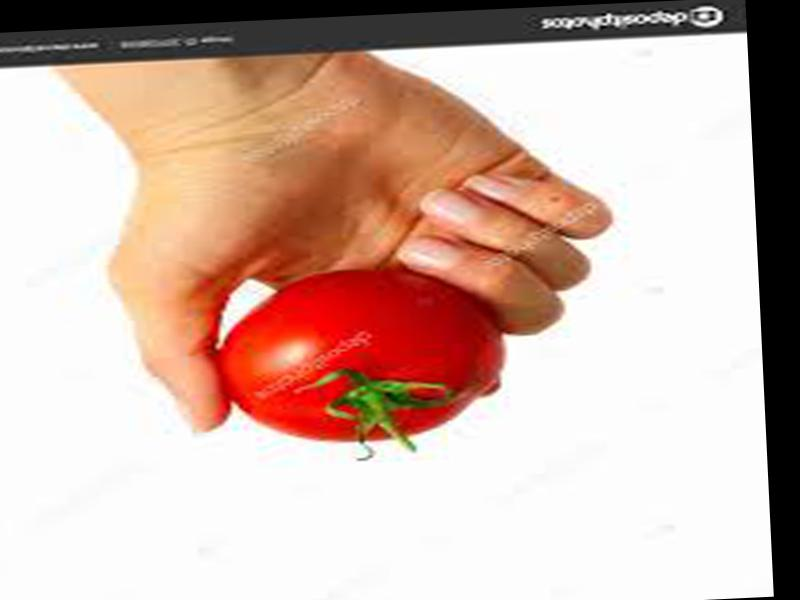Tomato: (216, 262, 502, 449)
